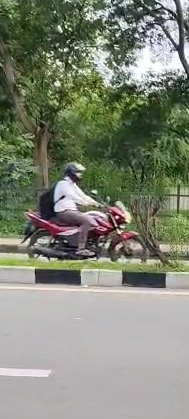BikeWithRider: (13, 157, 154, 272)
Helmet: (60, 157, 89, 187)
